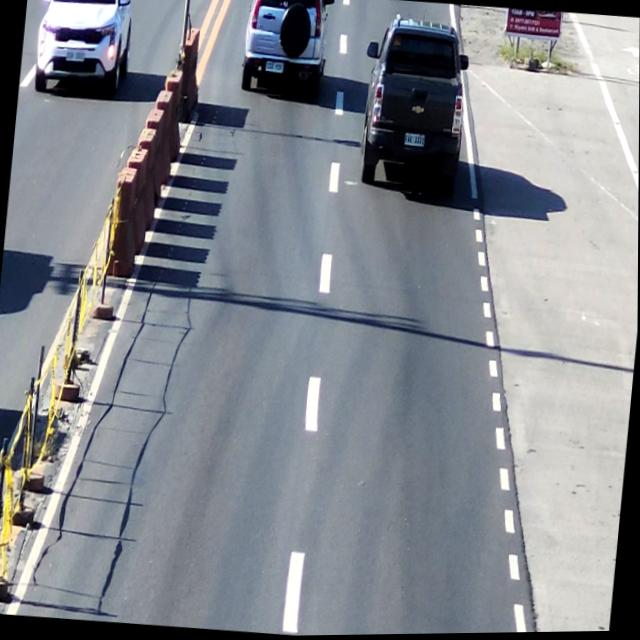Car: (359, 13, 474, 207), (235, 0, 331, 105), (32, 0, 137, 94)
License-Plate: (401, 130, 427, 150), (262, 58, 285, 77), (62, 47, 87, 62)
